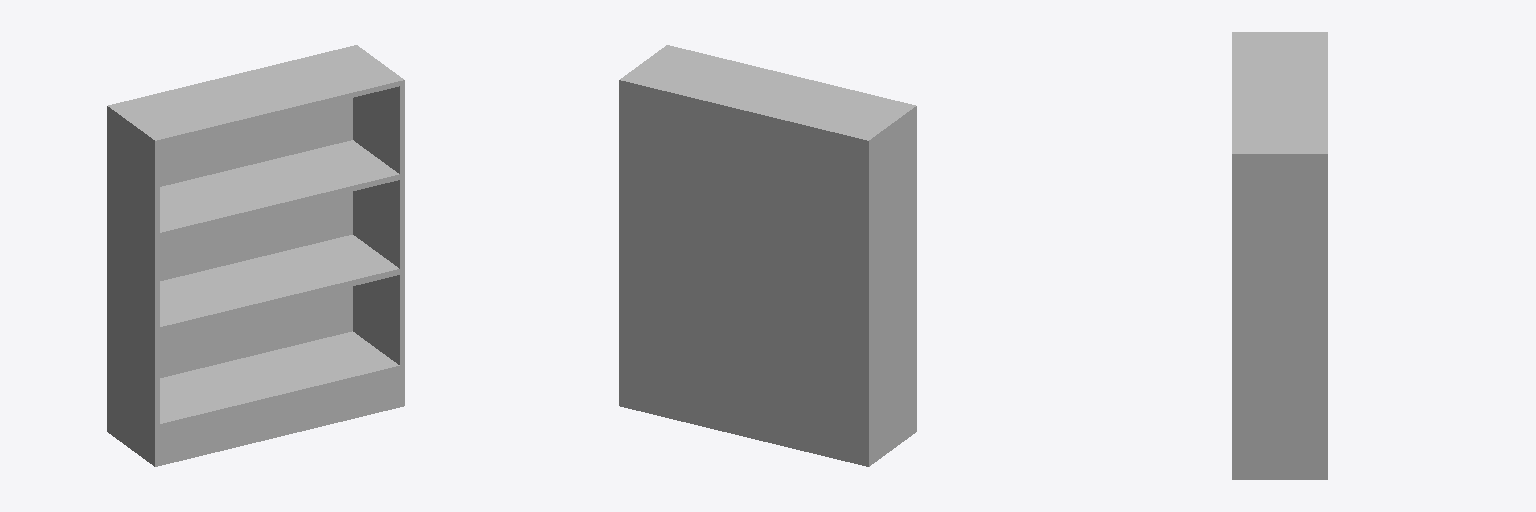
Rendered from shelfNormals.obj.
3 renders of one model, left to right at view 1: azimuth 30°, elevation 25°; view 2: azimuth 150°, elevation 25°; view 3: azimuth 270°, elevation 25°, orthographic.
Parts seen in each view (by area): view 1: Bookshelf_Cube_3.001; view 2: Bookshelf_Cube_3.001; view 3: Bookshelf_Cube_3.001.
Boxes of the visible parts, <box> form: Bookshelf_Cube_3.001: <box>107,45,404,466</box>; Bookshelf_Cube_3.001: <box>619,45,916,466</box>; Bookshelf_Cube_3.001: <box>1232,32,1327,479</box>.
Bounding box in the file's own units: 0.9144 × 1.14 × 0.3048.